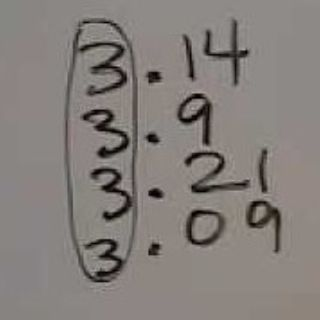.: (145, 69, 166, 87), (142, 130, 162, 145)
0: (181, 207, 227, 247)
1: (177, 29, 200, 84), (256, 142, 272, 197)
2: (183, 151, 252, 195)
3: (77, 38, 127, 96), (80, 106, 131, 160)
4: (202, 19, 252, 89)
9: (241, 199, 288, 259), (174, 90, 215, 148)
